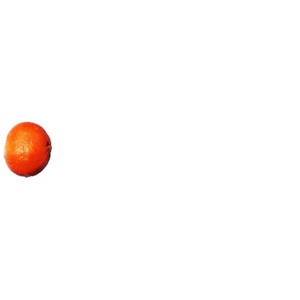tangerina: (4, 123, 51, 177)
